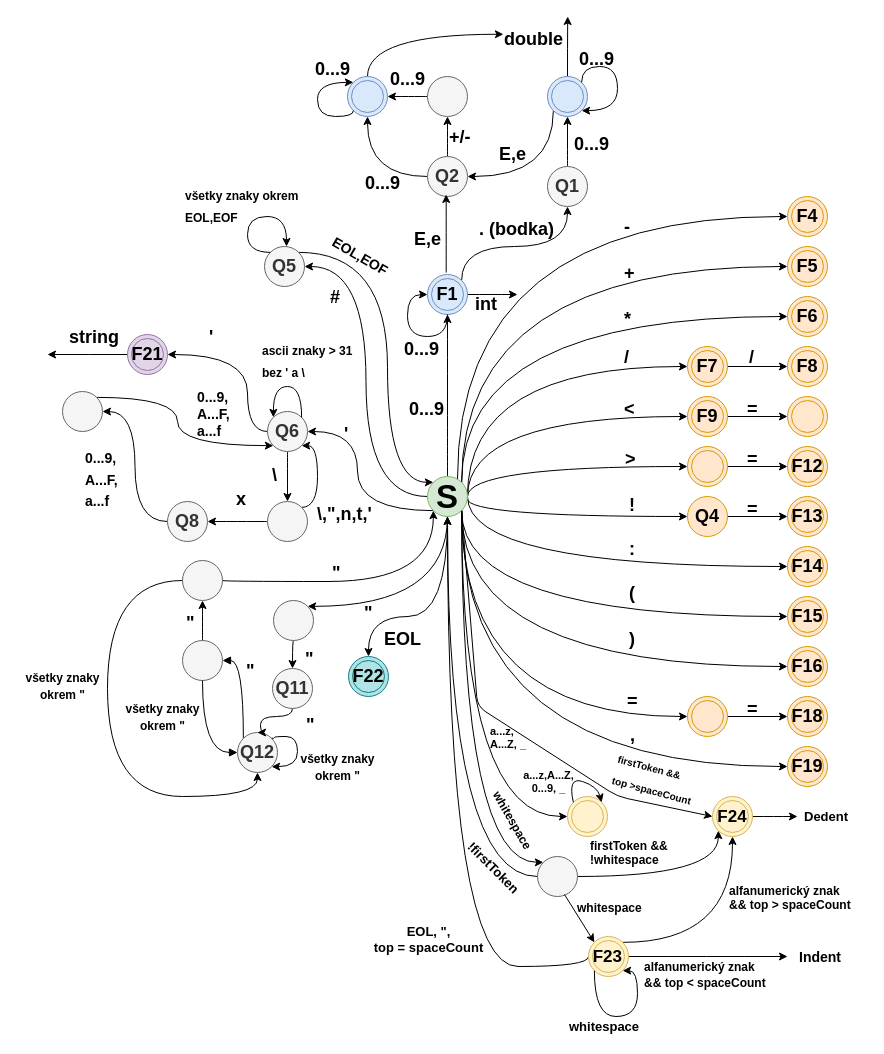
Image size: 884x1054. Some labels were removed from this diagram. The shapes that lost their labels are listed below. From the top down, each one's centre as x and y in pixels, then its label:
the point at 367,96: F3
the point at 447,96: Q3
the point at 567,96: F2
the point at 82,411: Q9
the point at 807,416: F10
the point at 707,466: F11
the point at 287,521: Q7
the point at 202,580: Q14
the point at 293,620: Q10
the point at 202,660: Q13
the point at 707,716: F17
the point at 587,816: F20
the point at 557,876: Q15
